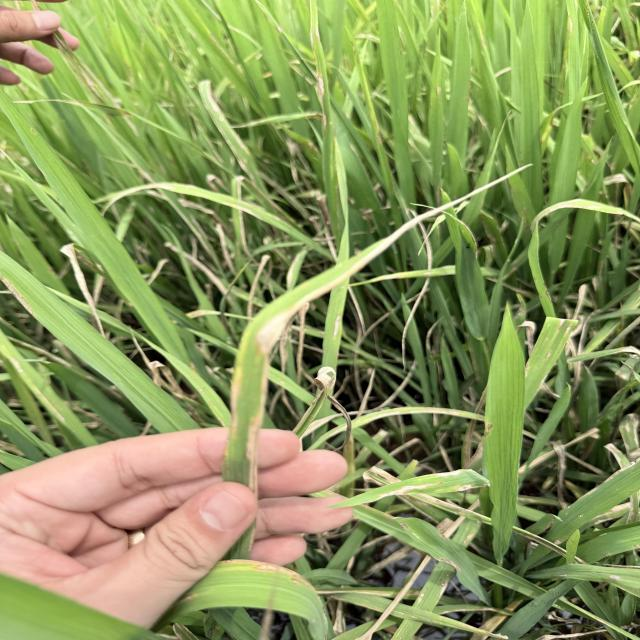Chay bia la: (237, 161, 536, 481)
